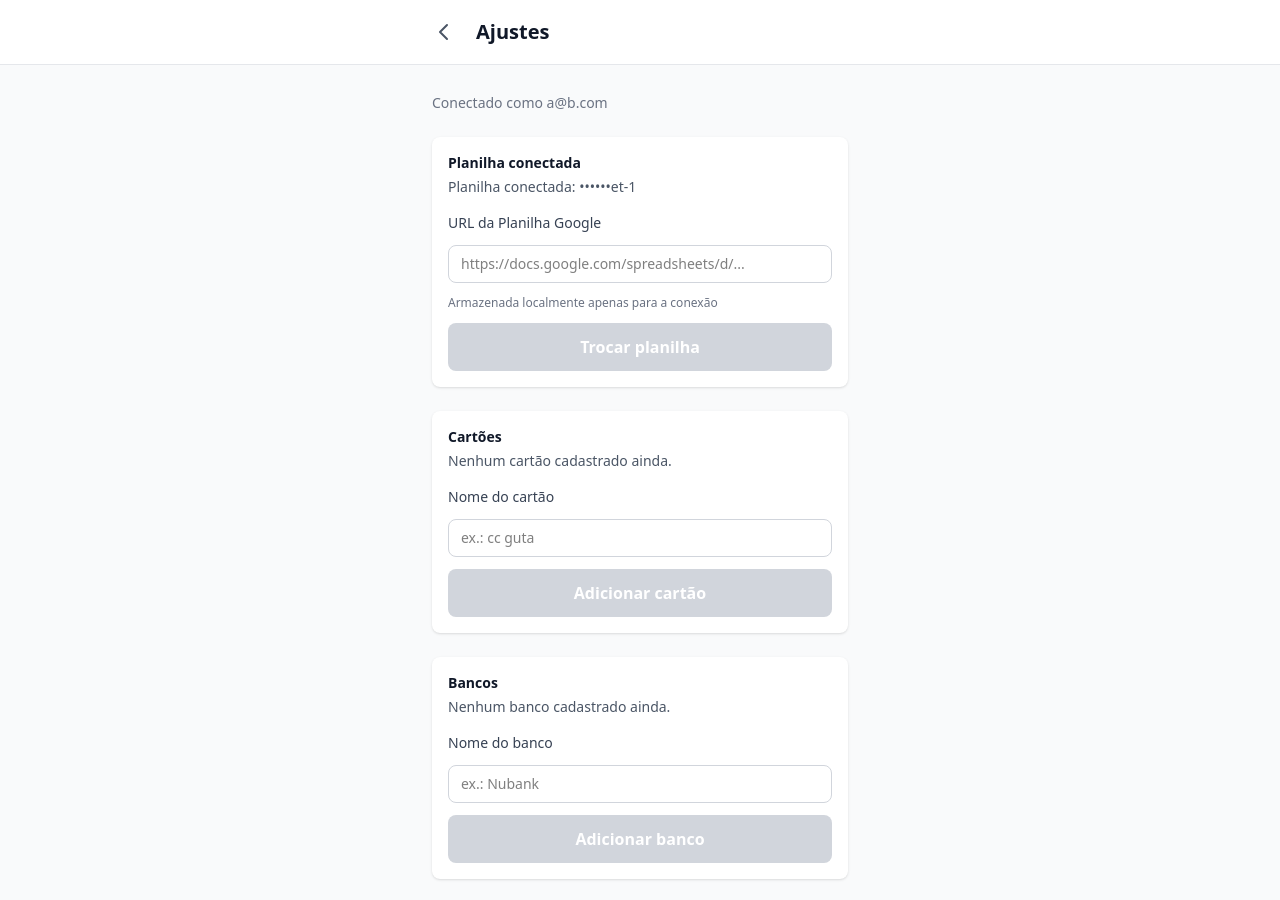
Test: Settings card registry › adds a card and writes the updated registry back to the sheet
This screenshot has width=1280, height=900.
# When the user adds a card by name
Type "cc ml" into the field labelled "Nome do cartão".
click(640, 538); type("cc ml")  # box [448, 519, 832, 557]
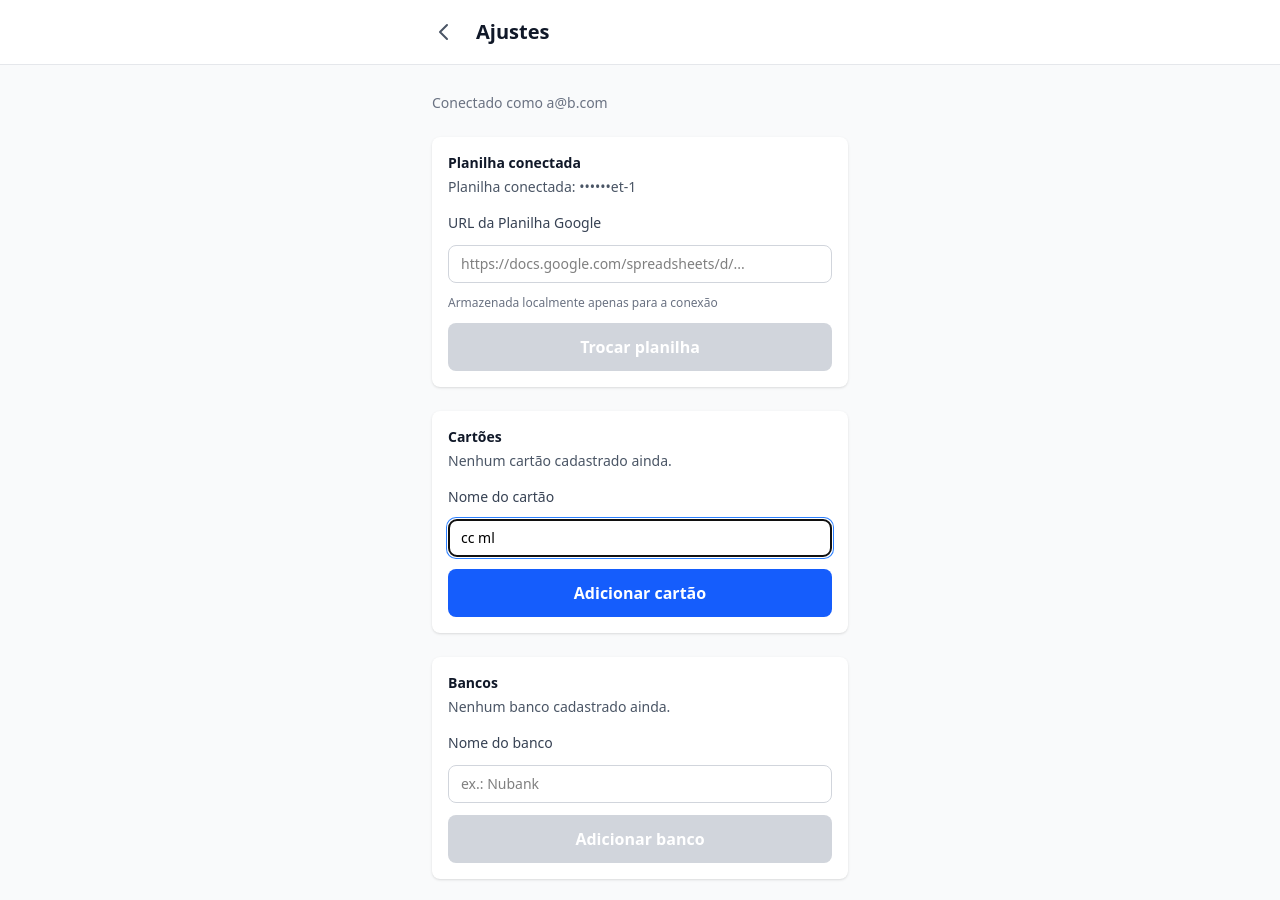
Click the button "Adicionar cartão".
click(640, 593)  # box [448, 569, 832, 617]
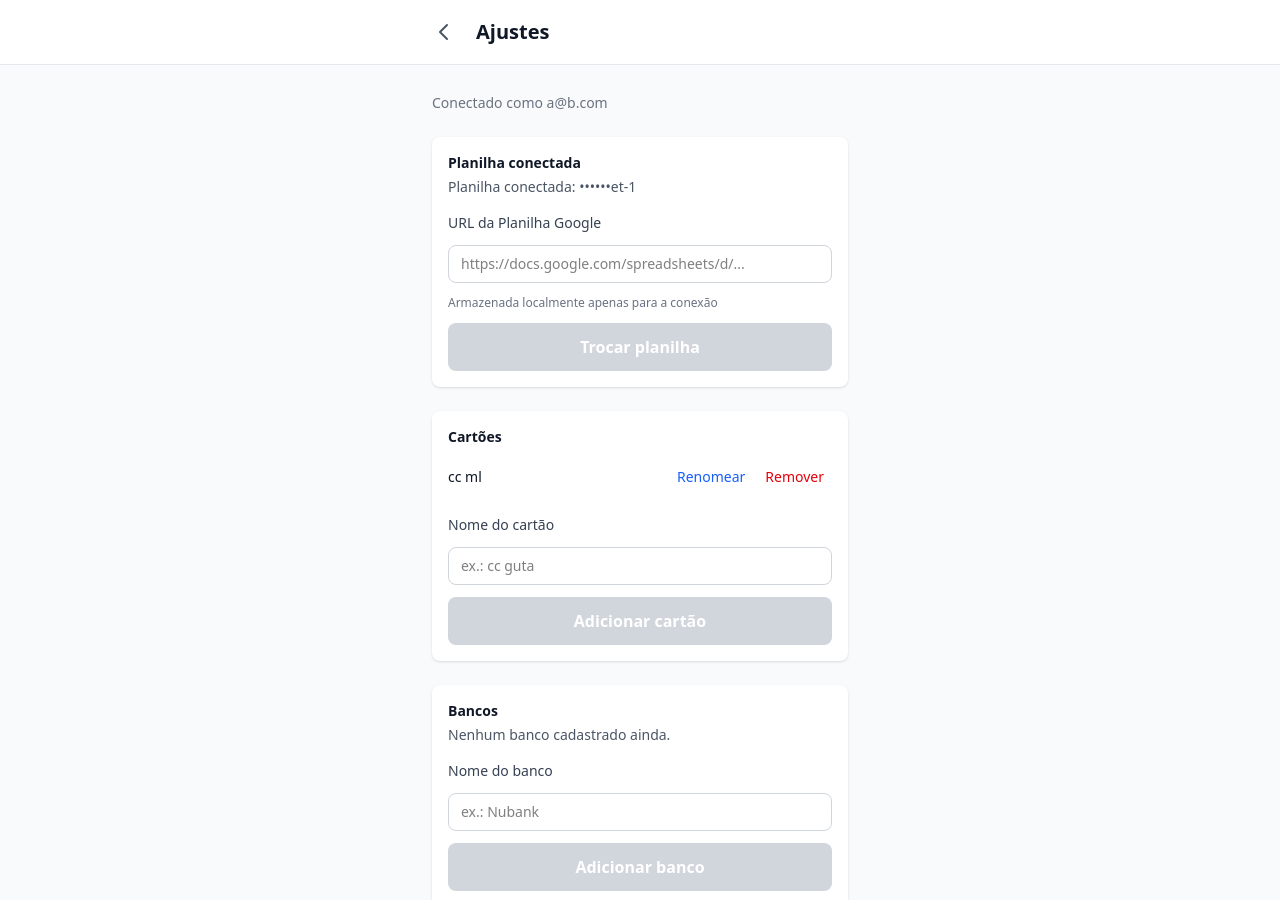
Expected: the text "cc ml" is shown, [448, 467, 482, 487]
